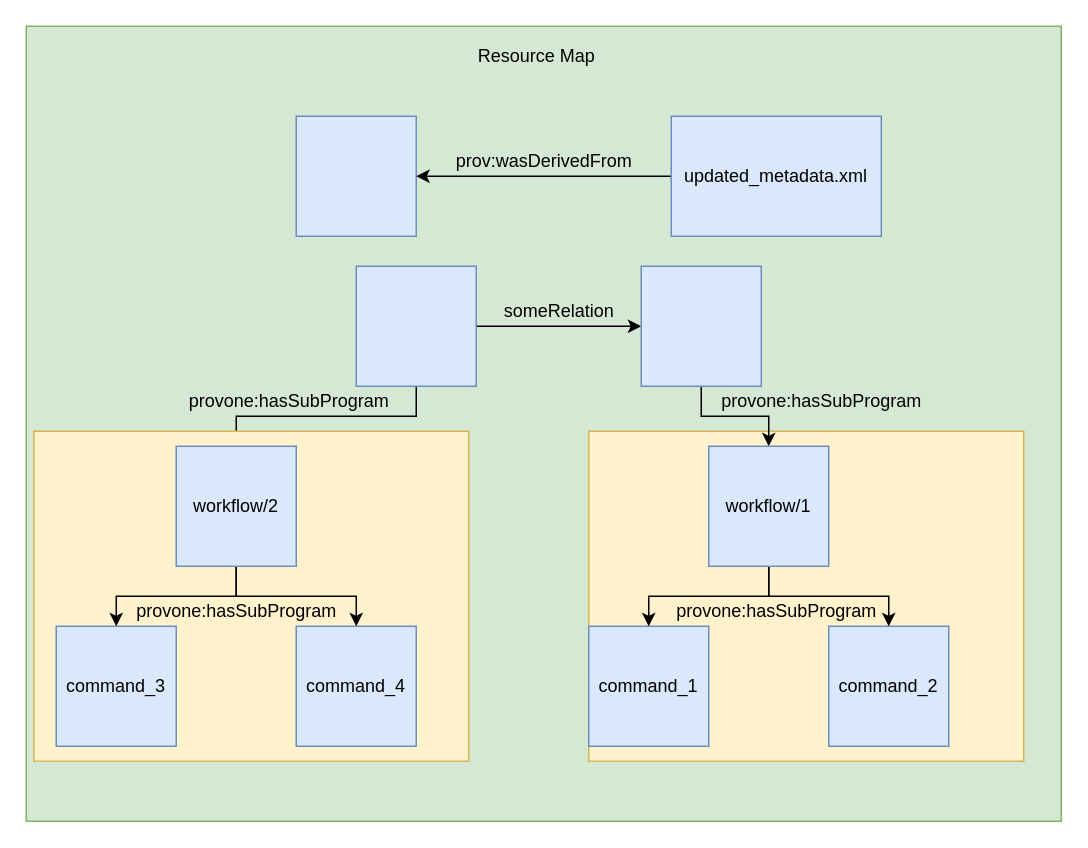
This 1088x848 diagram has some shape labels left out. Each missing label, with the centre of its shape:
"clean_data.R" belongs at (415,325).
"metadata.xml" belongs at (355,175).
"script.py" belongs at (700,325).
